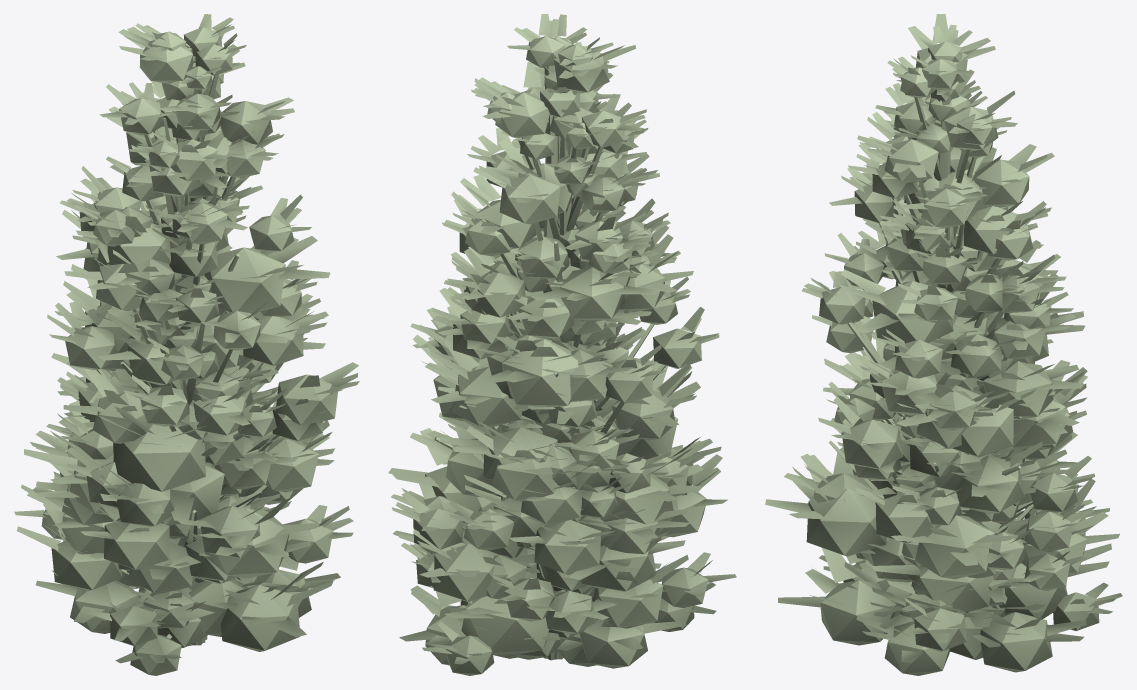
File: tree_juniper.glb
3 views of the same model, side by side, from view 1: azimuth 30°, elevation 25°; view 2: azimuth 150°, elevation 25°; view 3: azimuth 270°, elevation 25° (orthographic). The views are drawn at different scales.
Visible parts, largest first — view 1: tier2_foliage, tier1_foliage, tier0_foliage, tier2_bark, tier1_bark, tier0_bark; view 2: tier2_foliage, tier1_foliage, tier0_foliage, tier2_bark, tier1_bark; view 3: tier2_foliage, tier1_foliage, tier0_foliage, tier2_bark, tier1_bark.
Boxes of the visible parts, <box> form: tier2_foliage: <box>14,14,359,675</box>; tier1_foliage: <box>17,23,340,651</box>; tier0_foliage: <box>24,26,334,591</box>; tier2_bark: <box>96,48,288,645</box>; tier1_bark: <box>96,57,267,646</box>; tier0_bark: <box>121,43,268,645</box>; tier2_foliage: <box>391,14,736,675</box>; tier1_foliage: <box>410,14,693,668</box>; tier0_foliage: <box>388,45,703,665</box>; tier2_bark: <box>434,66,665,659</box>; tier1_bark: <box>492,65,629,659</box>; tier2_foliage: <box>784,55,1122,651</box>; tier1_foliage: <box>778,24,1119,675</box>; tier0_foliage: <box>765,14,1111,672</box>; tier2_bark: <box>829,97,1032,583</box>; tier1_bark: <box>881,87,1033,563</box>.
Bounding box in the file's own units: 0.5168 × 1 × 0.539.
